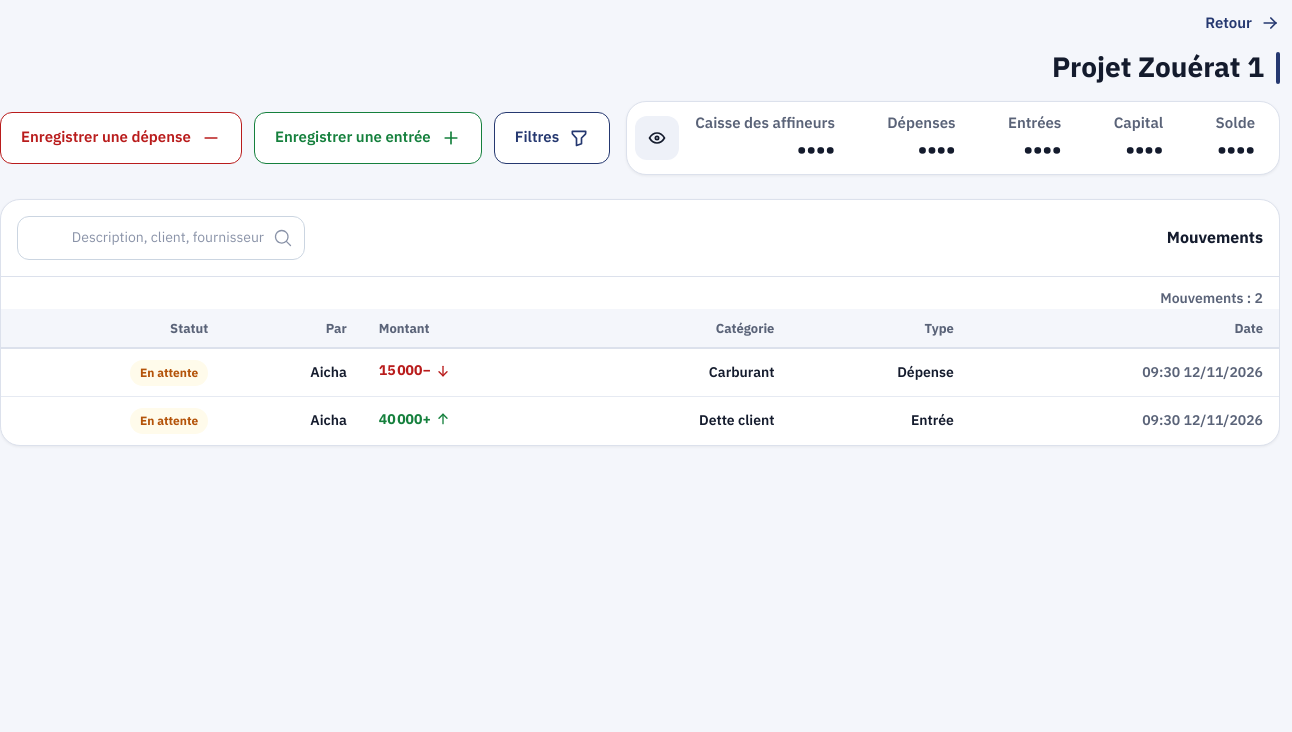
Test: CashProjectScreen › keeps the project's money hidden until the eye opens it, for the whole visit
This screenshot has width=1292, height=732.
Expected: the element showing "••••" below "Solde" is shown, [1217,133,1255,166]
Click the button named "Afficher les montants" at (657, 138), box [635,116,679,160]
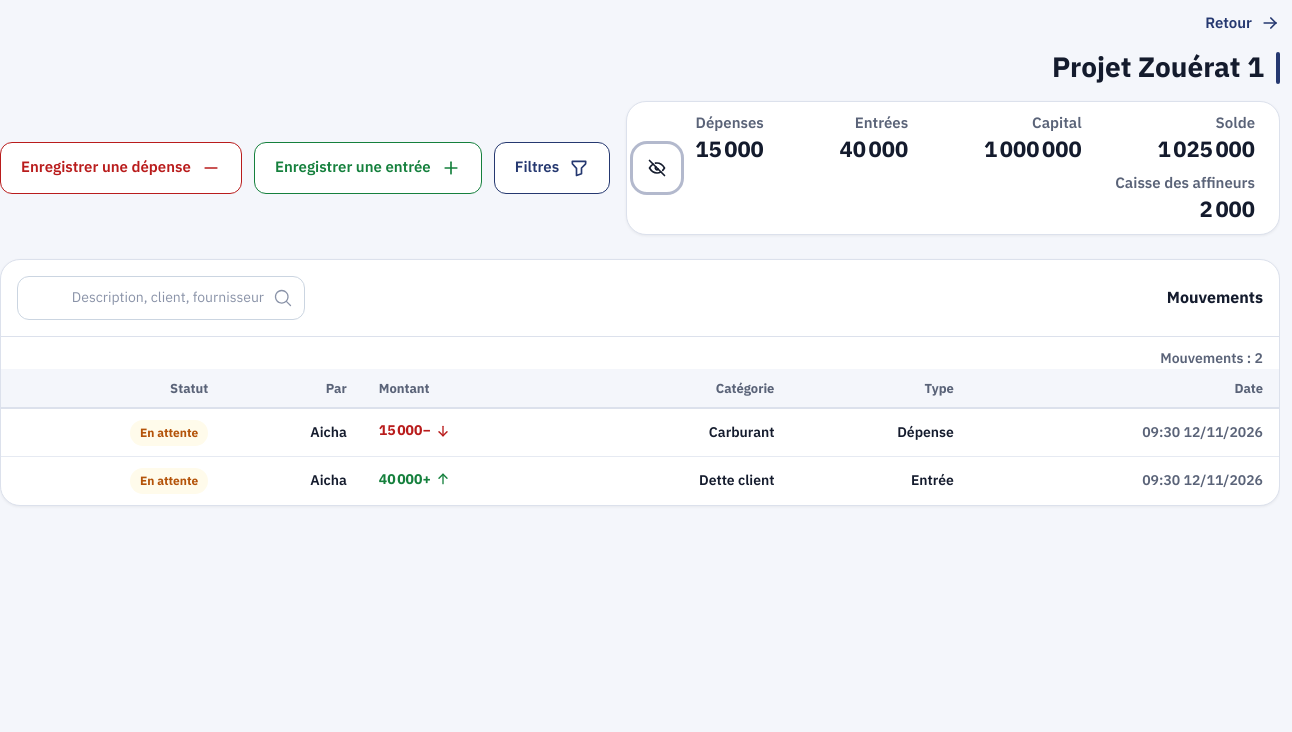
Click the button named "Masquer les montants" at (657, 168), box [635,146,679,190]
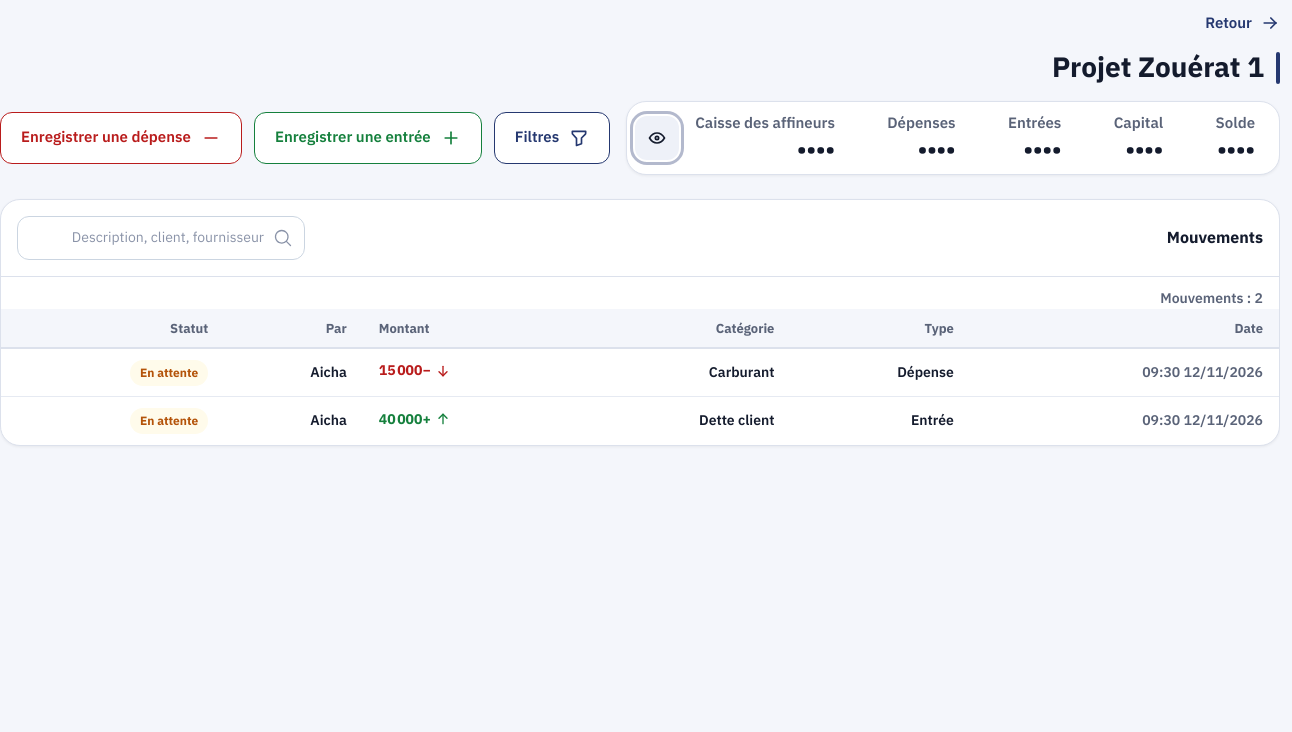
Expected: the element showing "••••" below "Solde" is shown, [1217,133,1255,166]
